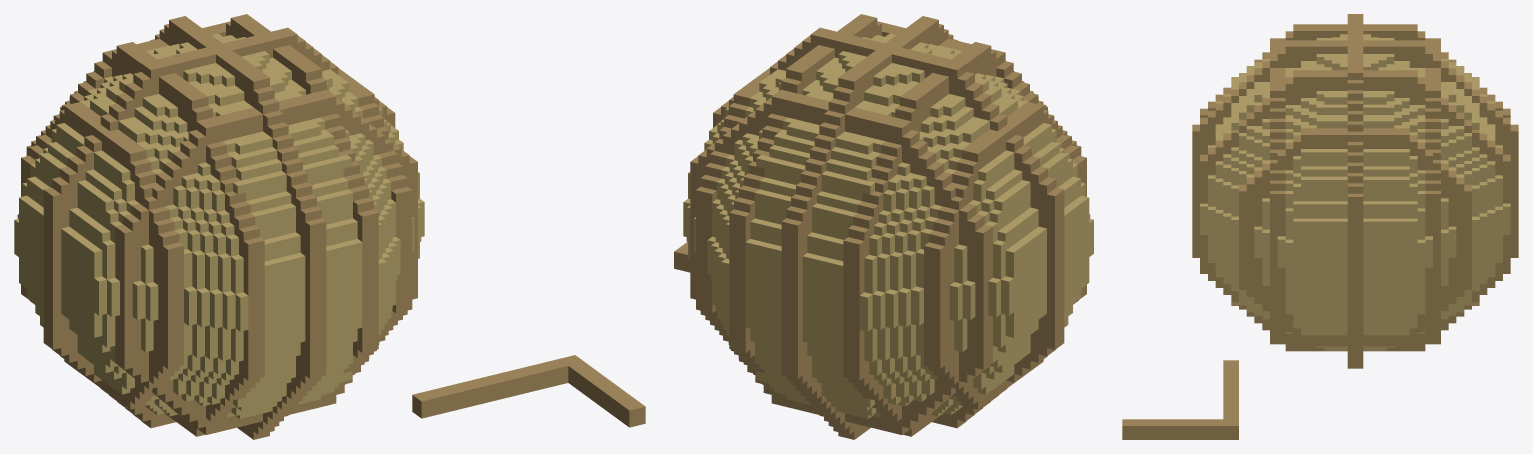
The model's file is grass_yarn.glb.
3 views of the same model, side by side, from view 1: azimuth 30°, elevation 25°; view 2: azimuth 150°, elevation 25°; view 3: azimuth 270°, elevation 25° (orthographic). The views are drawn at different scales.
Parts seen in each view (by area): view 1: grass_yarn:compound; view 2: grass_yarn:compound; view 3: grass_yarn:compound.
Boxes of the visible parts, x1,y1,x2,y2 form: grass_yarn:compound: (14, 14, 645, 439); grass_yarn:compound: (674, 14, 1093, 439); grass_yarn:compound: (1122, 14, 1518, 439).
Size of the model in its own units: 0.112 by 0.084 by 0.102.
